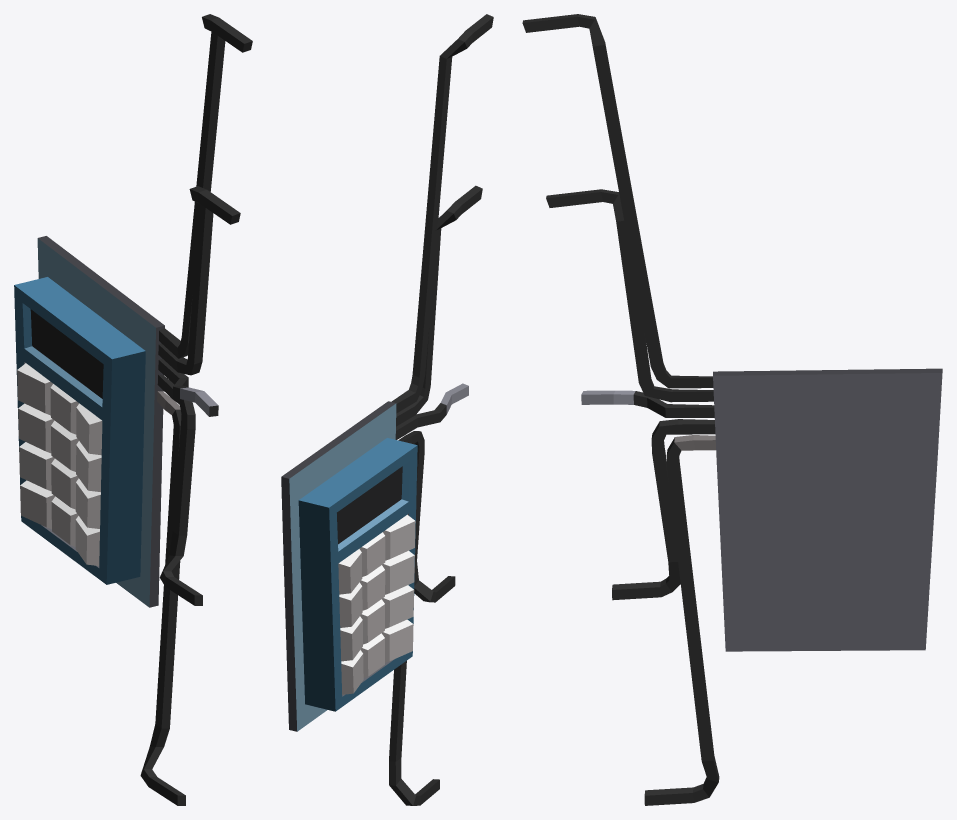
The model's file is Numpad1.glb.
3 views of the same model, side by side, from view 1: azimuth 30°, elevation 25°; view 2: azimuth 150°, elevation 25°; view 3: azimuth 270°, elevation 25° (orthographic). The views are drawn at different scales.
Visible parts, largest first — view 1: Puzzle05_Console; view 2: Puzzle05_Console; view 3: Puzzle05_Console.
Part boxes in pixels (x1=…): Puzzle05_Console: x1=14, y1=14, x2=252, y2=805; Puzzle05_Console: x1=281, y1=14, x2=493, y2=805; Puzzle05_Console: x1=522, y1=14, x2=942, y2=805.
Bounding box in the file's own units: 0.1673 × 2.46 × 1.19.
Materials: 1 (1 with a texture image).
